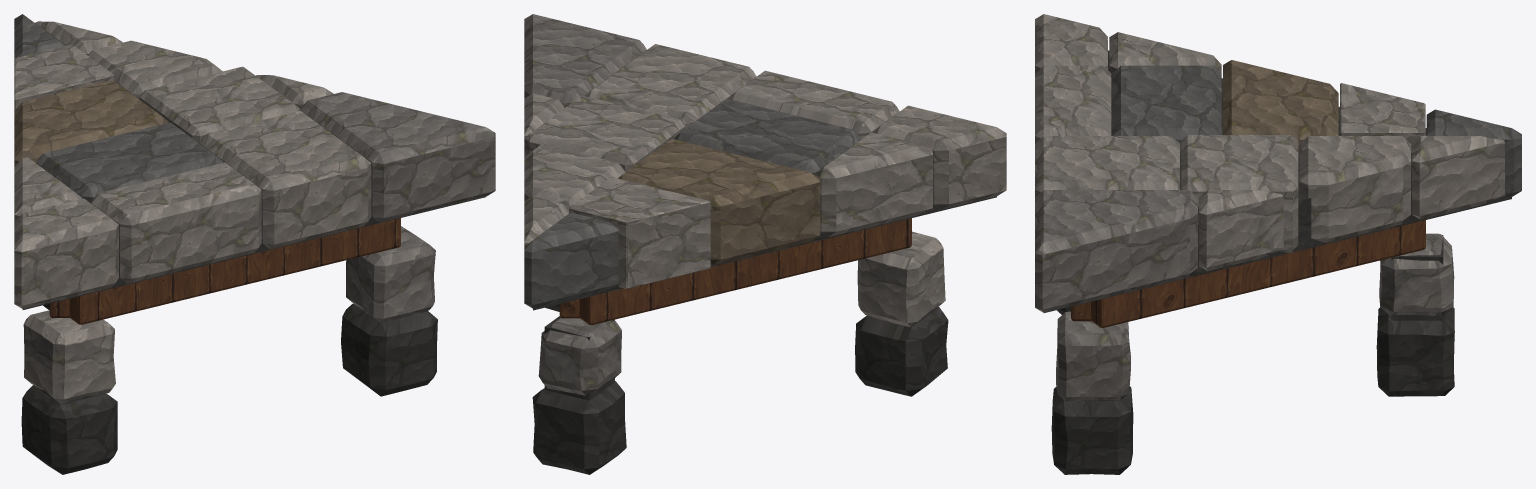
Rendered from foundation_triangle__cut_stone.glb.
3 views of the same model, side by side, from view 1: azimuth 30°, elevation 25°; view 2: azimuth 150°, elevation 25°; view 3: azimuth 270°, elevation 25° (orthographic).
Parts seen in each view (by area): view 1: model; view 2: model; view 3: model.
Boxes of the visible parts, <box> form: model: <box>14,14,495,474</box>; model: <box>524,14,1006,474</box>; model: <box>1035,14,1521,474</box>.
Bounding box in the file's own units: 1.95 × 0.981 × 1.69.
Materials: 6 (6 with a texture image).
